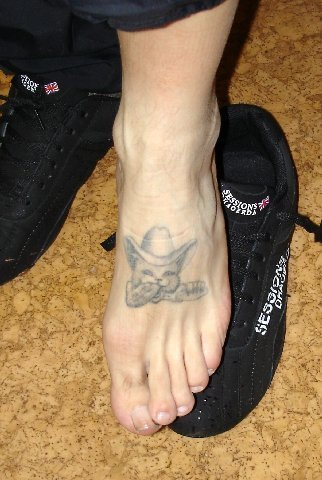tatu8_kot: (120, 225, 211, 309)
